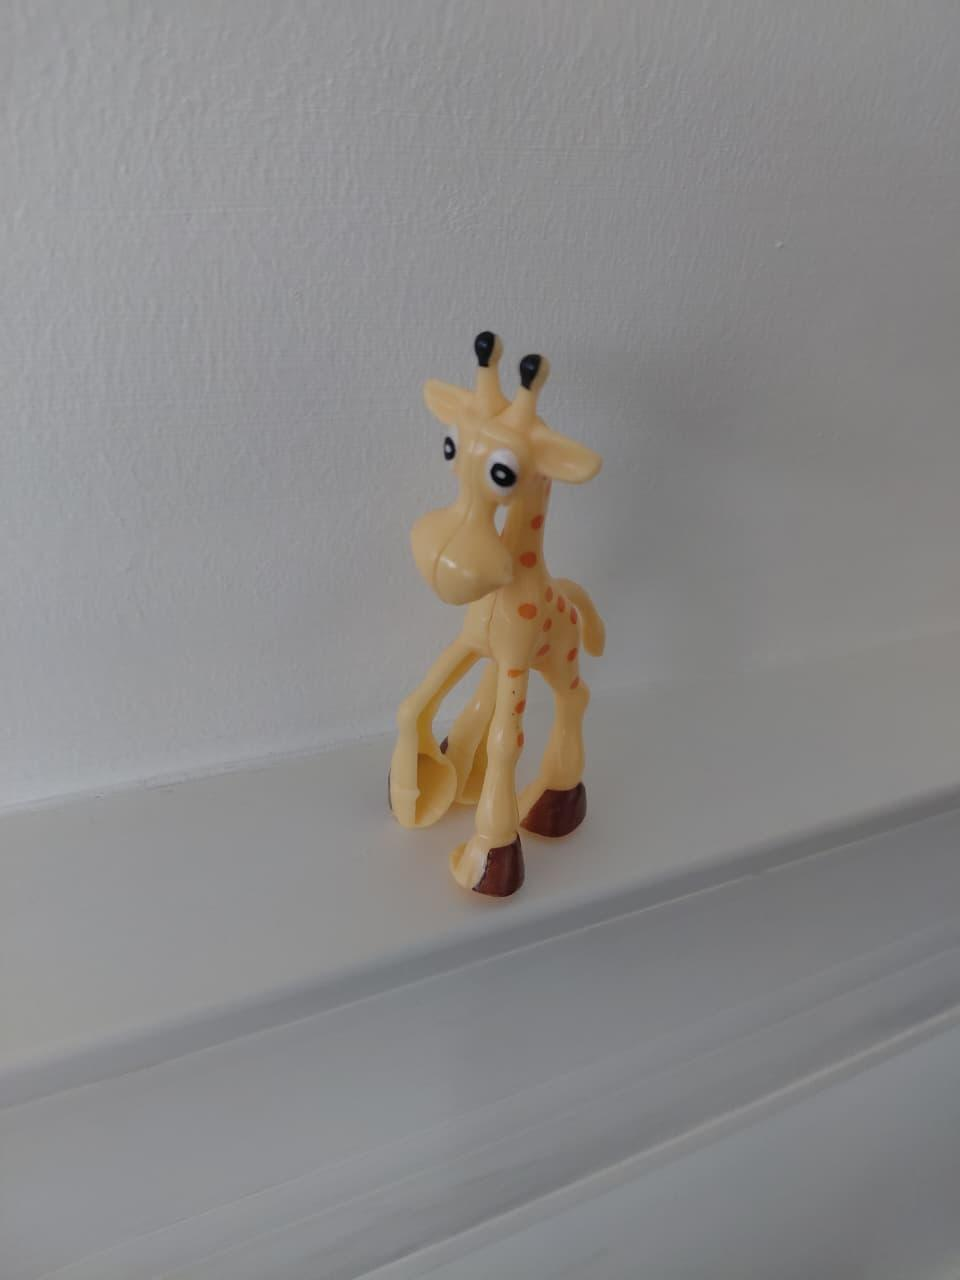giraffe: (377, 285, 690, 946)
